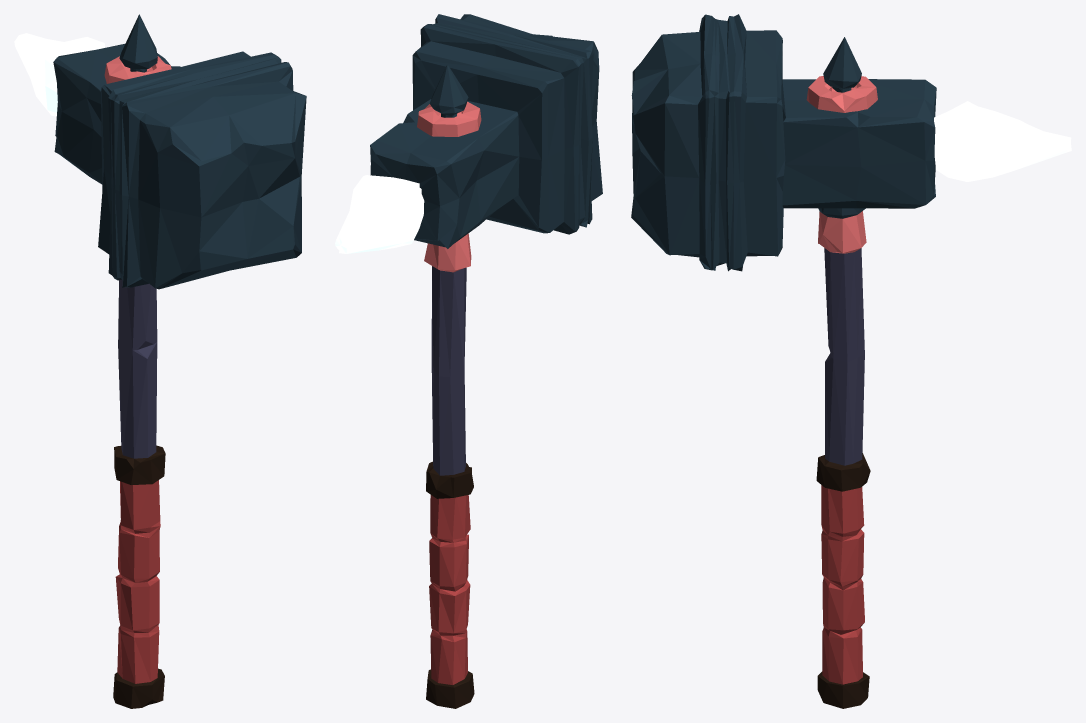
File: SFFA_Weapon_Hammer_Gold_005.fbx
3 renders of one model, left to right at view 1: azimuth 30°, elevation 25°; view 2: azimuth 150°, elevation 25°; view 3: azimuth 270°, elevation 25°, orthographic. The views are drawn at different scales.
Parts seen in each view (by area): view 1: SFFA_Weapon_Hammer_Gold_005; view 2: SFFA_Weapon_Hammer_Gold_005; view 3: SFFA_Weapon_Hammer_Gold_005.
Part boxes in pixels (box(x1,y1,x2,y2)): SFFA_Weapon_Hammer_Gold_005: box(14, 14, 306, 708); SFFA_Weapon_Hammer_Gold_005: box(335, 14, 602, 708); SFFA_Weapon_Hammer_Gold_005: box(631, 14, 1071, 708).
Size of the model in its own units: 19.93 by 76.81 by 46.09.
